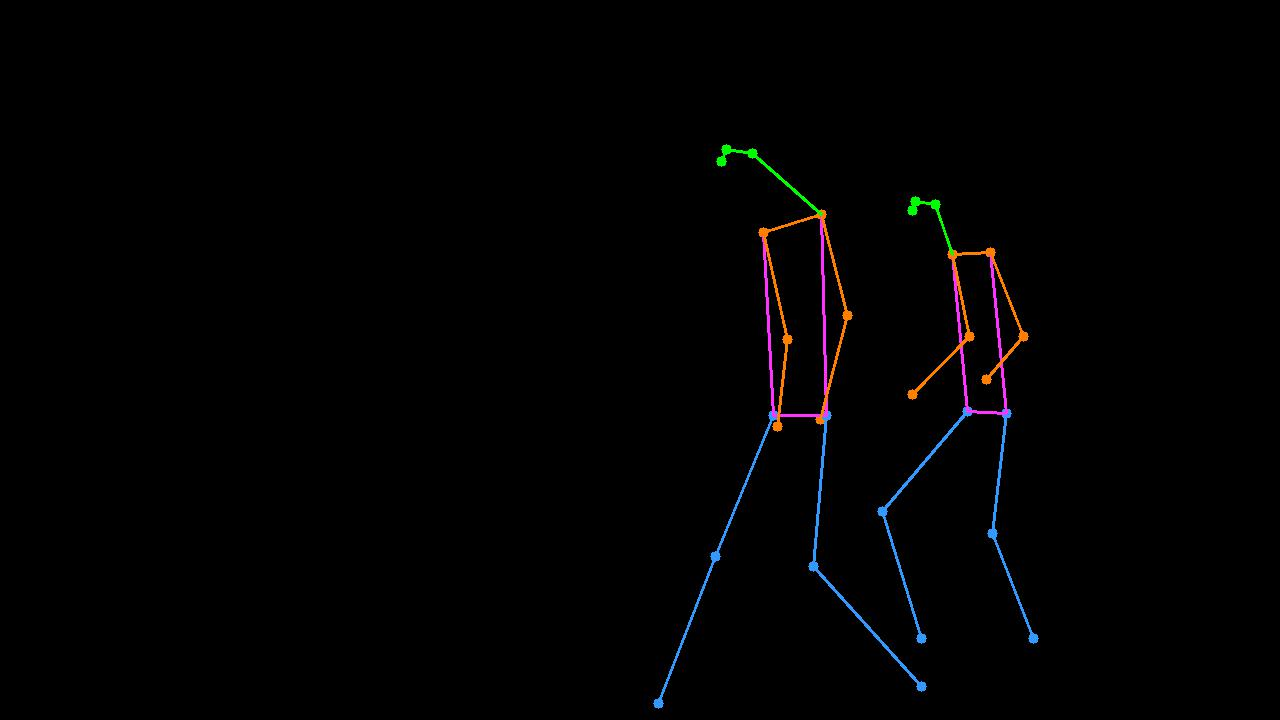normal: (649, 102, 894, 720), (862, 169, 1065, 678)
